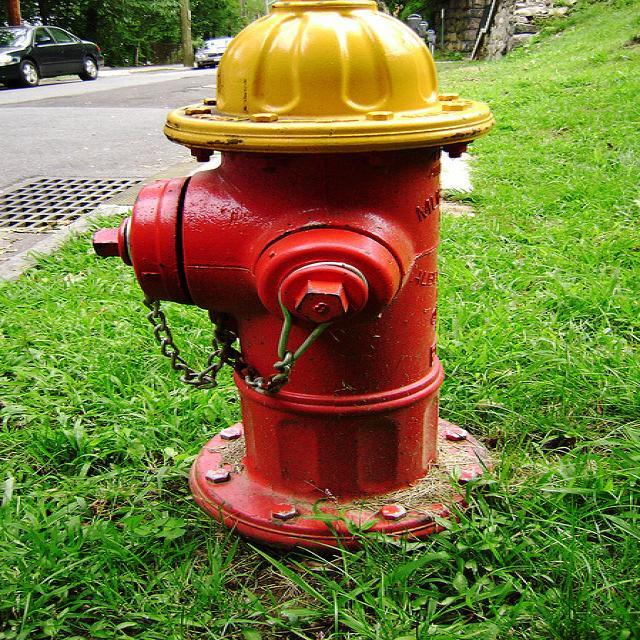fire_hydrant: (87, 4, 499, 540)
